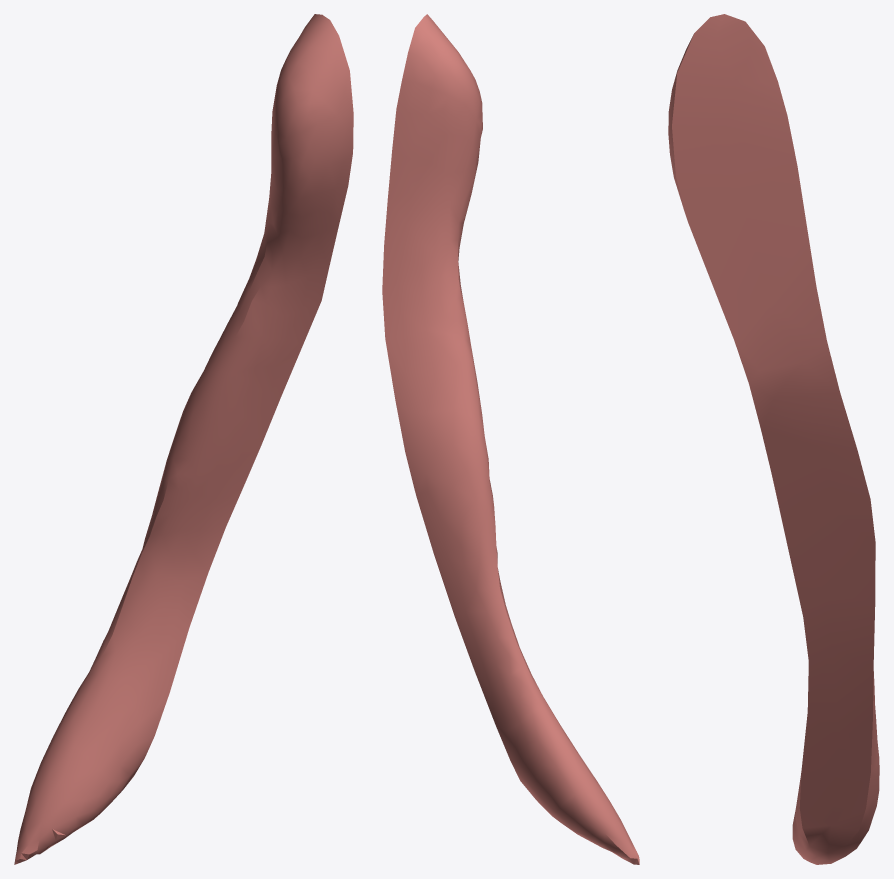
The model's file is fma301553_mm3996m.glb.
3 views of the same model, side by side, from view 1: azimuth 30°, elevation 25°; view 2: azimuth 150°, elevation 25°; view 3: azimuth 270°, elevation 25° (orthographic). The views are drawn at different scales.
Visible parts, largest first — view 1: FMA301553_MM3996M; view 2: FMA301553_MM3996M; view 3: FMA301553_MM3996M.
Part boxes in pixels (x1,y1,x2,y2): FMA301553_MM3996M: (14,14,353,864); FMA301553_MM3996M: (382,14,639,864); FMA301553_MM3996M: (668,14,879,864).
Bounding box in the file's own units: 0.0355 × 0.0983 × 0.0188.
